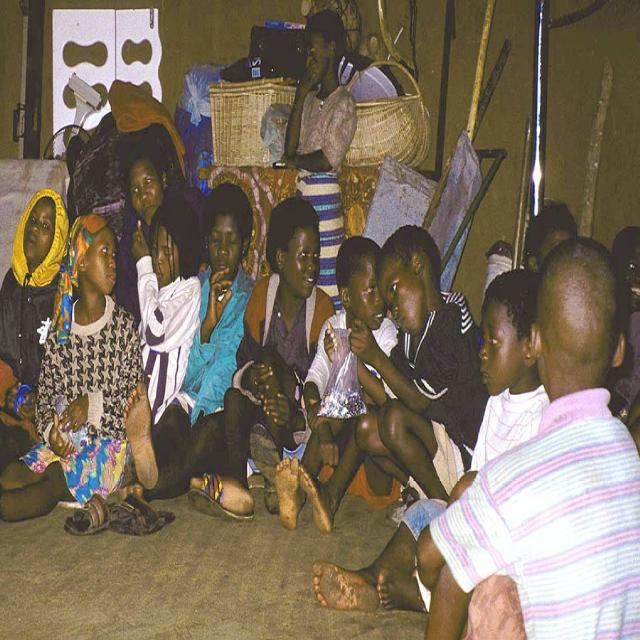body: (414, 231, 640, 640), (308, 265, 552, 613), (107, 179, 261, 507), (186, 196, 338, 524), (0, 210, 142, 543), (348, 225, 490, 524), (273, 237, 403, 535), (279, 6, 360, 316), (1, 186, 70, 473), (129, 194, 202, 430), (115, 150, 169, 329), (606, 225, 640, 433), (522, 198, 582, 275)
